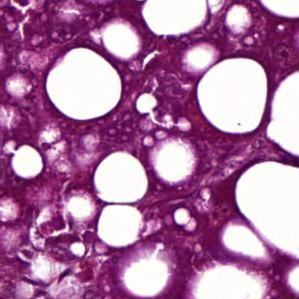steatosis: (45, 48, 123, 124), (197, 58, 268, 133), (94, 150, 148, 203), (144, 0, 206, 38), (259, 0, 298, 19)
